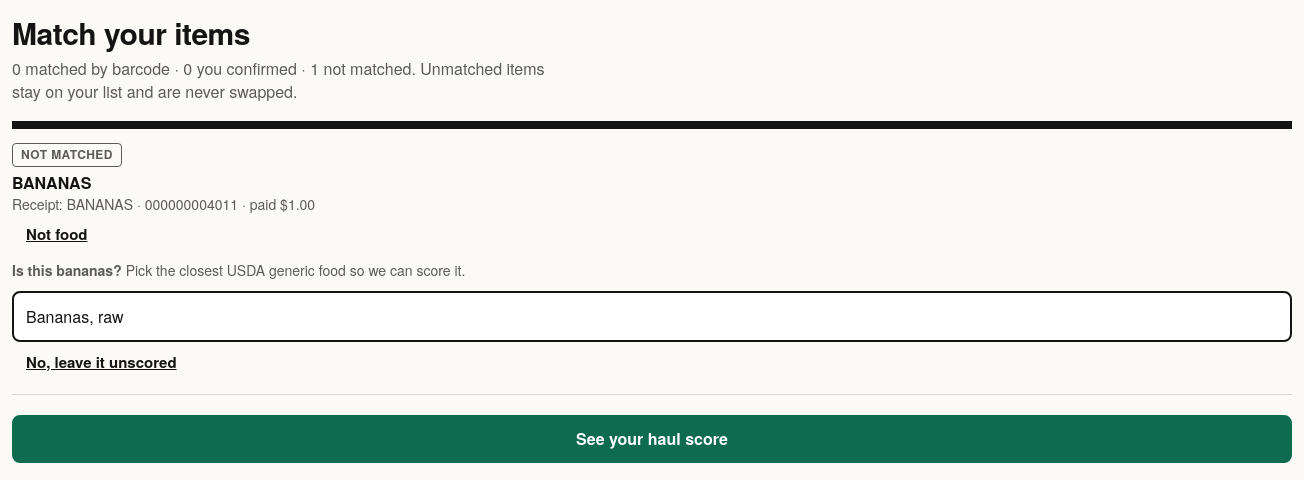
Test case: P2: produce confirm + non-food › produce: "Is this bananas?" never auto-confirms; tapping a USDA record labels it
Expected: the text "Is this bananas?" is shown, [12, 260, 122, 280]
Expected: the text "USDA generic record, you confirmed" is not shown
Step 1. Click the button "Bananas, raw" → (75, 316), box [12, 290, 1292, 342]
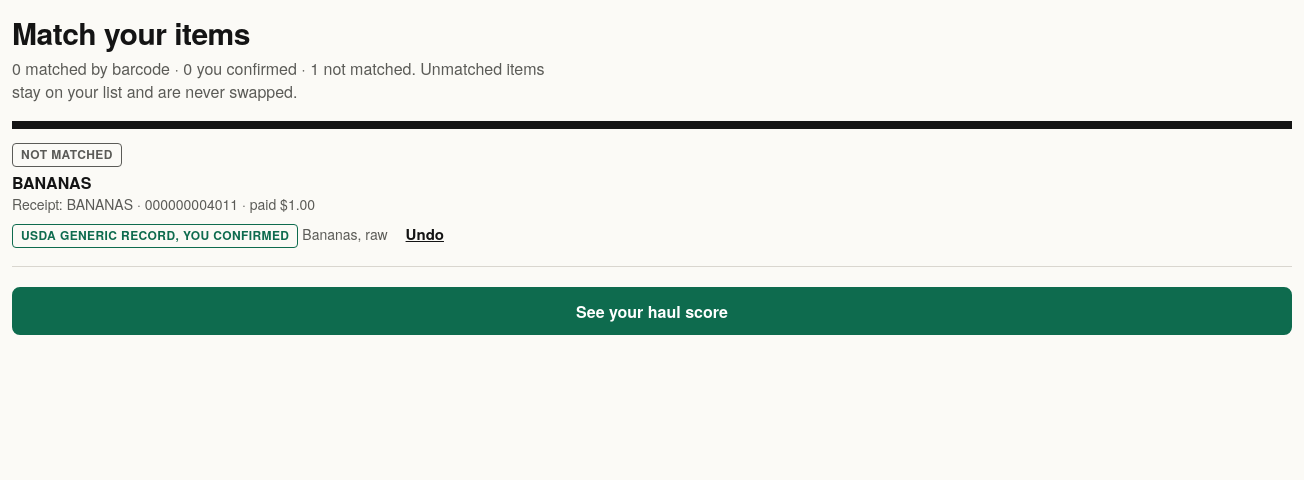
Expected: the text "USDA generic record, you confirmed" is shown, [12, 224, 298, 248]
